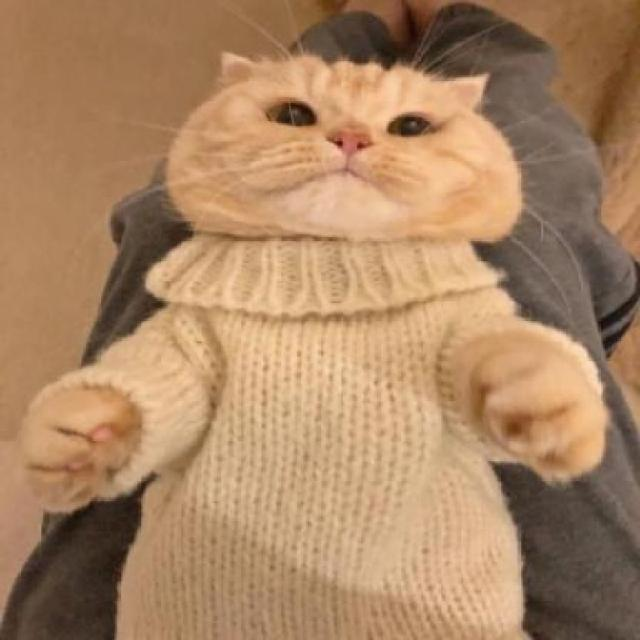cat: (15, 41, 639, 640)
